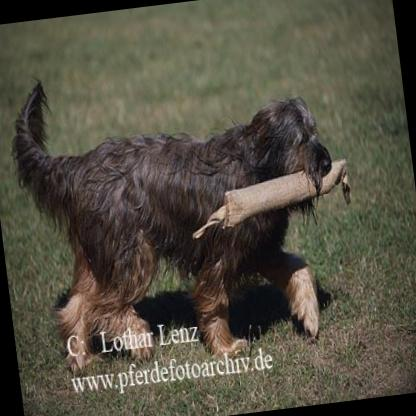briard: (0, 42, 352, 376)
